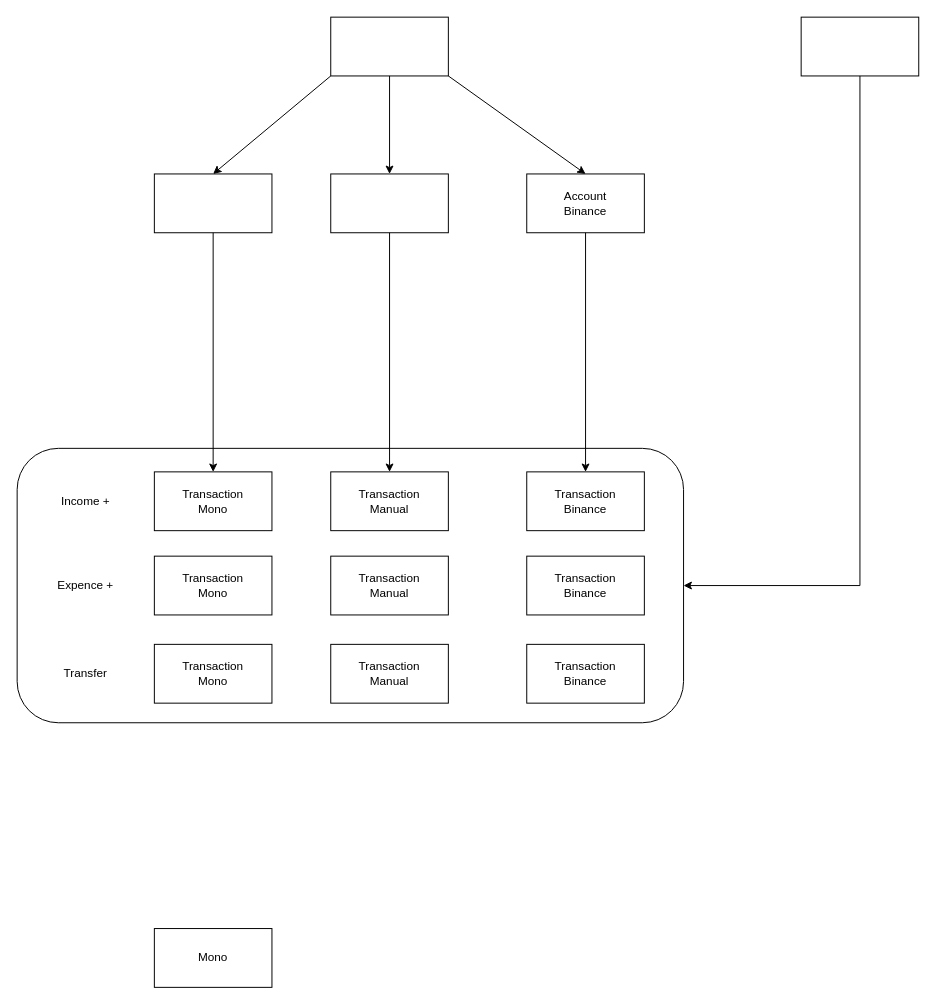
Some shapes in this 936 by 1005 pixel diagram are drawn without their labels. The centre of each missing label's shape, as x and y in pixels:
Account Cash: pixel 389 203
Account Mono: pixel 212 203
Category: pixel 859 46
User: pixel 389 46
